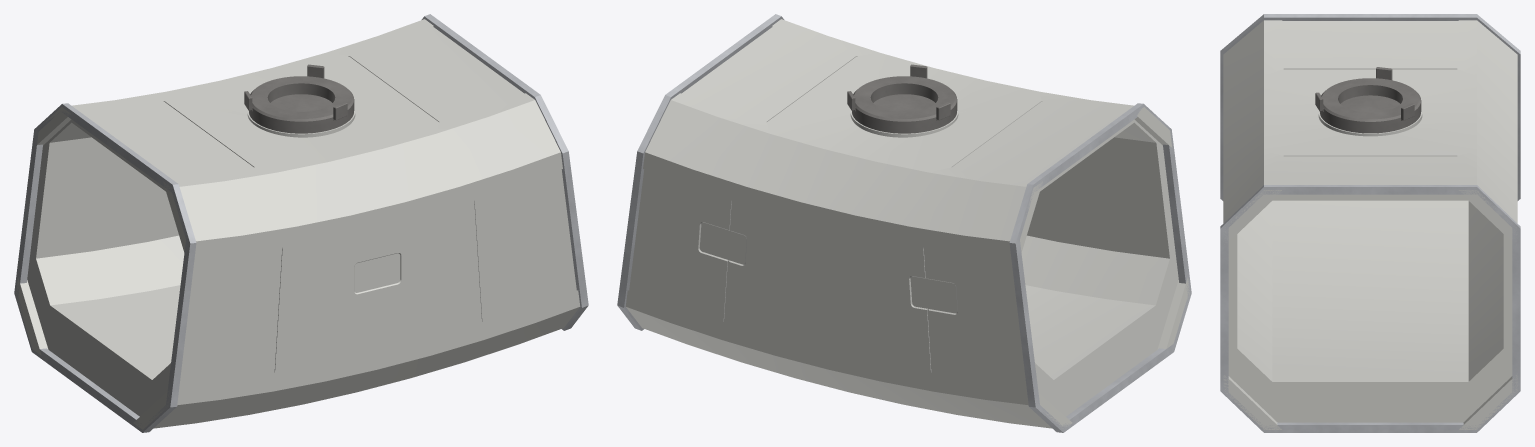
Rendered from ax_grav_08_ring_storage.glb.
The picture shows the model from 3 angles, left to right: view 1: azimuth 30°, elevation 25°; view 2: azimuth 150°, elevation 25°; view 3: azimuth 270°, elevation 25°; orthographic projection. The views are drawn at different scales.
Parts seen in each view (by area): view 1: hull, end_flanges, spoke_port, hatch_door_1, spoke_port_petals; view 2: hull, end_flanges, spoke_port, hatch_door_1, spoke_port_petals; view 3: hull, end_flanges, spoke_port, hatch_door_1, spoke_port_petals, spoke_port_pedestal.
Part boxes in pixels (x1=…): hull: x1=16, y1=19, x2=580, y2=429; end_flanges: x1=14, y1=14, x2=588, y2=432; spoke_port: x1=249, y1=76, x2=354, y2=133; hatch_door_1: x1=270, y1=94, x2=332, y2=111; spoke_port_petals: x1=244, y1=64, x2=347, y2=120; hull: x1=625, y1=19, x2=1189, y2=428; end_flanges: x1=617, y1=14, x2=1191, y2=432; spoke_port: x1=852, y1=76, x2=957, y2=133; hatch_door_1: x1=873, y1=94, x2=935, y2=111; spoke_port_petals: x1=847, y1=64, x2=950, y2=120; hull: x1=1223, y1=20, x2=1517, y2=429; end_flanges: x1=1220, y1=14, x2=1520, y2=432; spoke_port: x1=1319, y1=78, x2=1421, y2=133; hatch_door_1: x1=1341, y1=95, x2=1399, y2=112; spoke_port_petals: x1=1315, y1=67, x2=1414, y2=120; spoke_port_pedestal: x1=1318, y1=108, x2=1422, y2=136.
Size of the model in its own units: 7.52 by 4.41 by 4.74.
3 materials, 2 textured.
